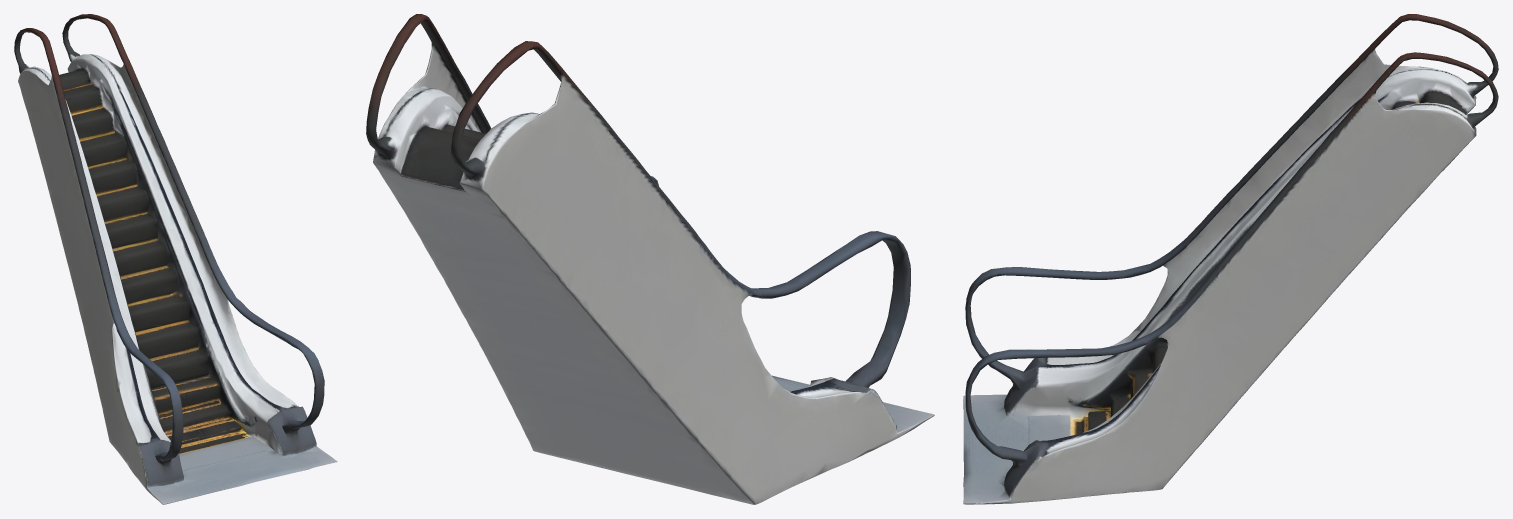
The model's file is escalator.glb.
3 views of the same model, side by side, from view 1: azimuth 30°, elevation 25°; view 2: azimuth 150°, elevation 25°; view 3: azimuth 270°, elevation 25° (orthographic). The views are drawn at different scales.
Parts seen in each view (by area): view 1: tripo_node_59b73951-176b-484b-a6e7-6d5a47ee7de9; view 2: tripo_node_59b73951-176b-484b-a6e7-6d5a47ee7de9; view 3: tripo_node_59b73951-176b-484b-a6e7-6d5a47ee7de9.
Boxes of the visible parts, box(x1,y1,x2,y2) form: tripo_node_59b73951-176b-484b-a6e7-6d5a47ee7de9: box(14, 14, 337, 504); tripo_node_59b73951-176b-484b-a6e7-6d5a47ee7de9: box(366, 14, 934, 504); tripo_node_59b73951-176b-484b-a6e7-6d5a47ee7de9: box(963, 14, 1498, 504).
Bounding box in the file's own units: 0.4794 × 0.8622 × 1.
Materials: 1 (1 with a texture image).
